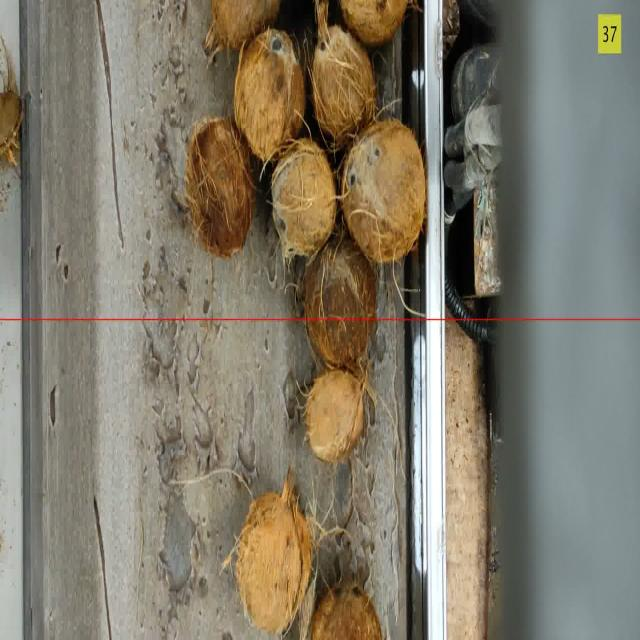Coconut-Conveyor-Belt: (237, 474, 310, 637), (342, 120, 427, 256), (182, 115, 255, 258), (232, 32, 302, 158), (309, 245, 379, 366), (312, 23, 375, 137), (270, 140, 332, 255), (306, 364, 365, 464), (312, 580, 381, 640), (208, 5, 278, 47), (338, 2, 413, 40)
